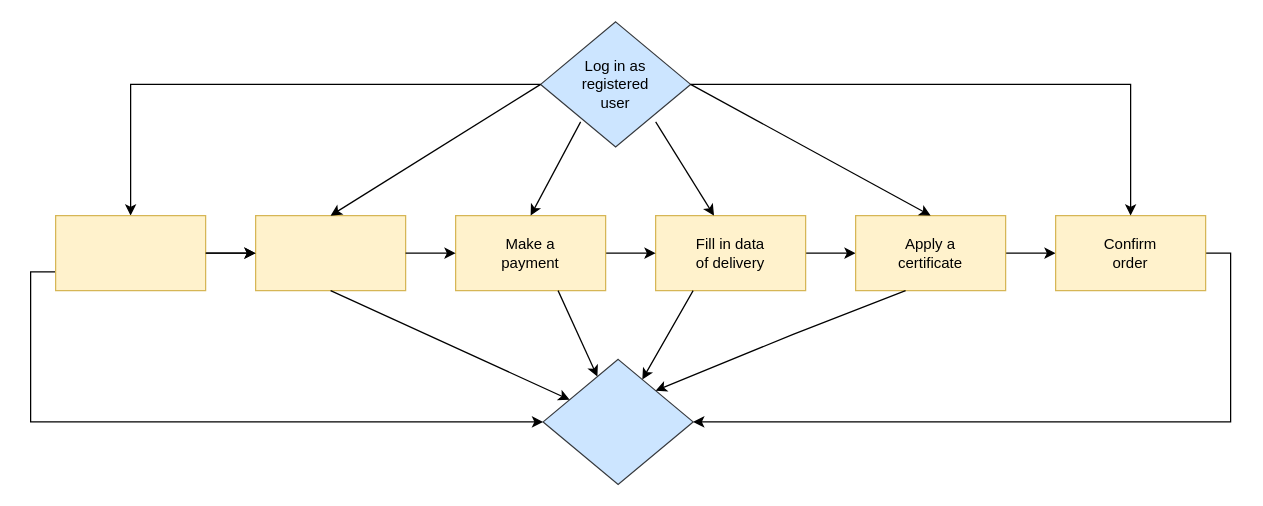
Image size: 1263x506. Some labels were removed from this diagram. The shapes that lost their labels are listed below. From the top down, each one's box as (x1, y1, x2, y2) in pixels, then its label:
(54, 214, 206, 291): Search of goods
(254, 214, 406, 291): Add to cart
(542, 358, 693, 484): Log out
